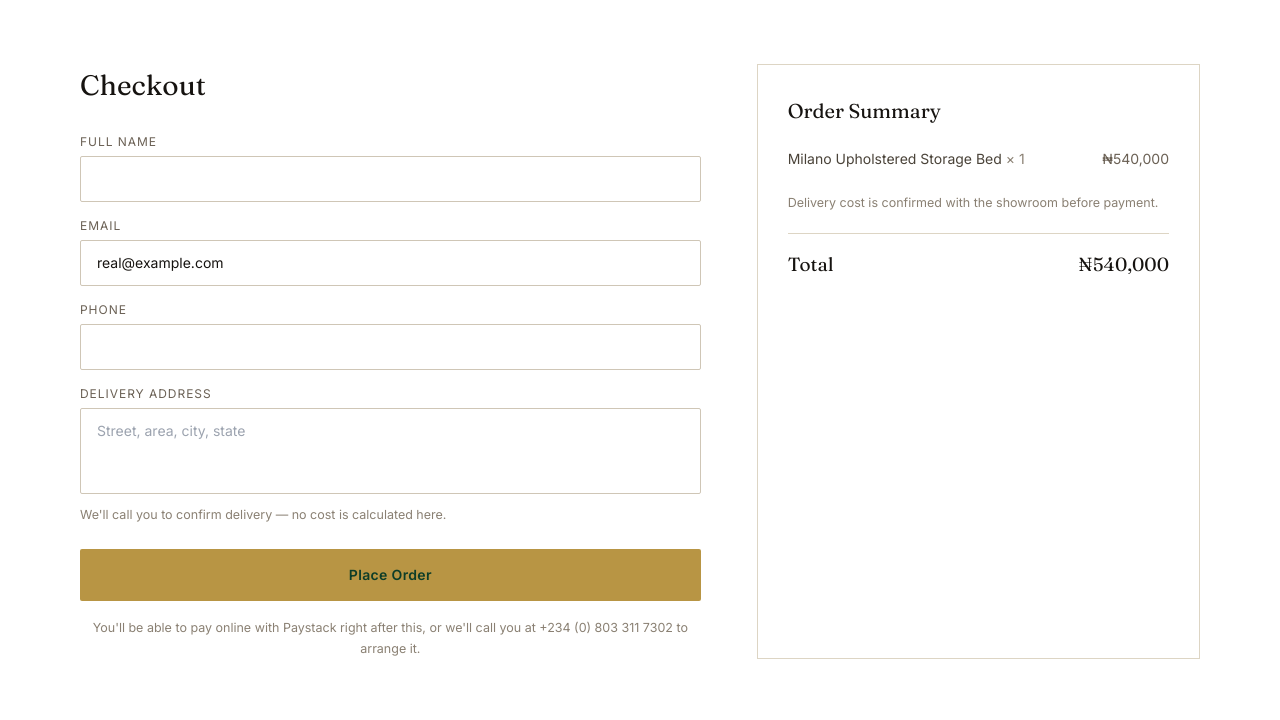
Test case: CheckoutView — authenticated › falls back to a generic, showroom-referencing message for an unrecognized RPC error
Type "  Ada Obi  " into the field labelled "Full name" at (390, 179), box [80, 156, 701, 202]
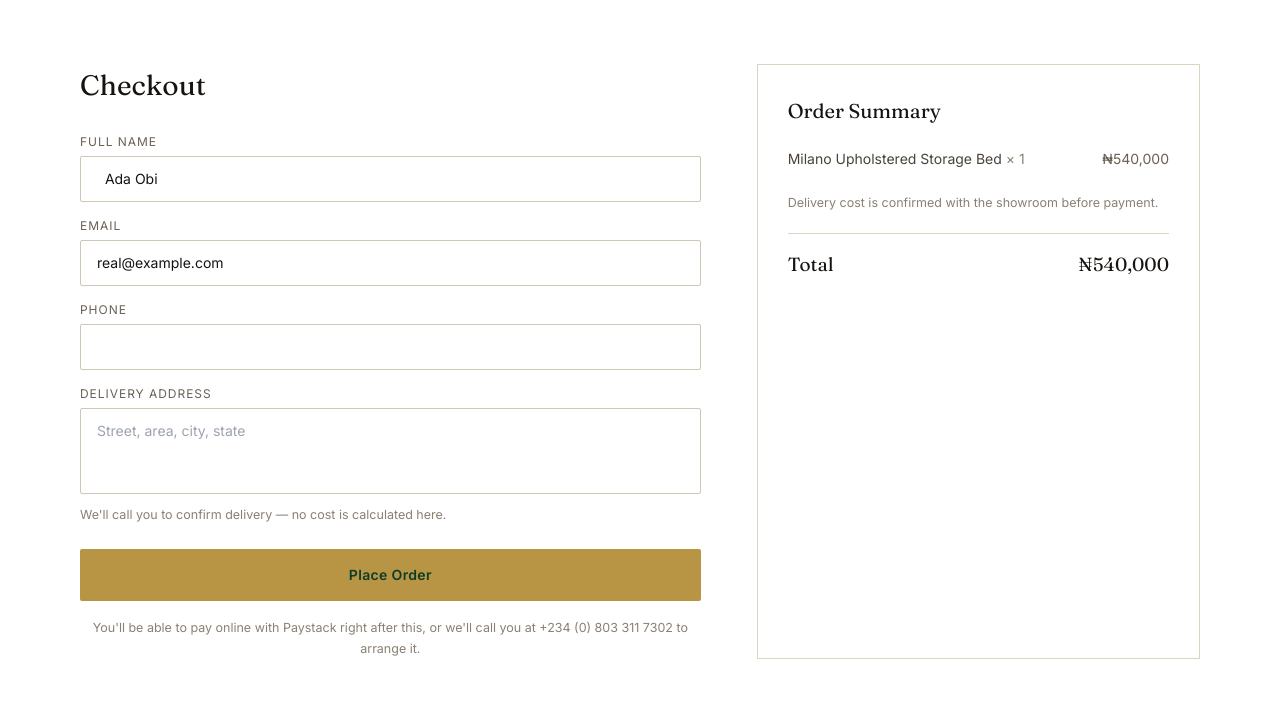
Replace the text in the field labelled "Email" with "ada@example.com" at (390, 263), box [80, 240, 701, 286]
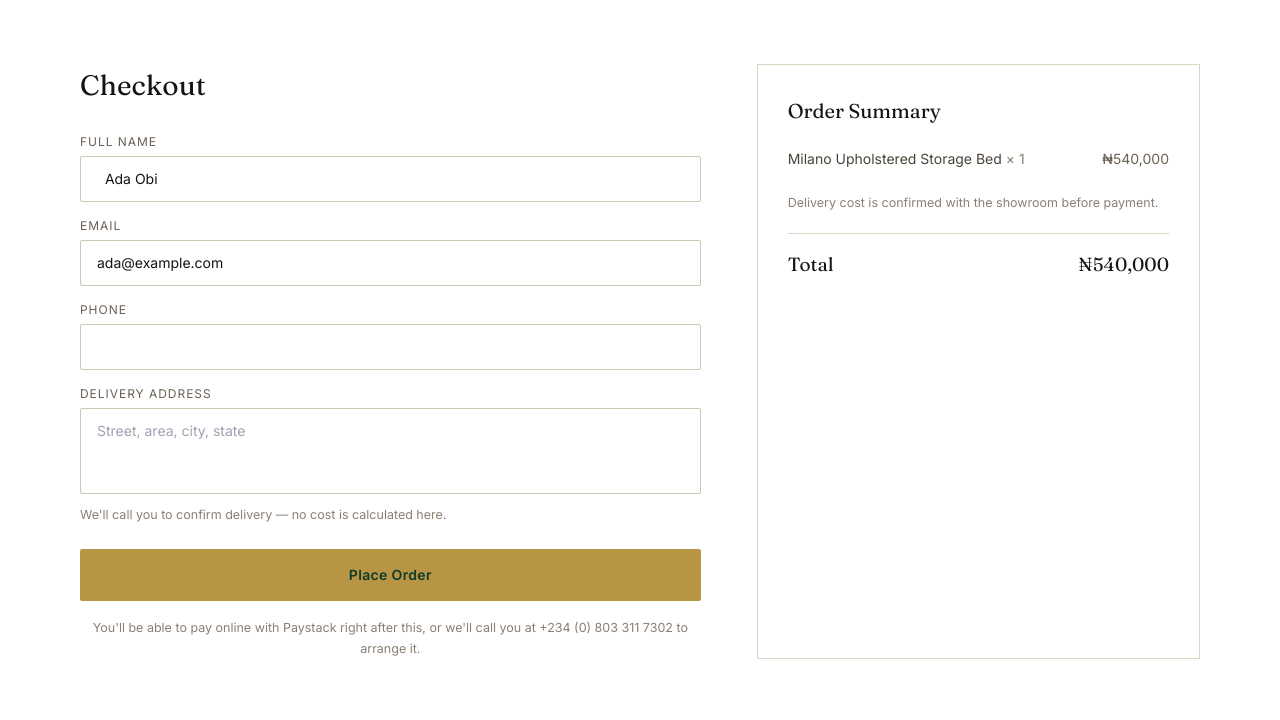
Type "08030000000" into the field labelled "Phone" at (390, 347), box [80, 324, 701, 370]
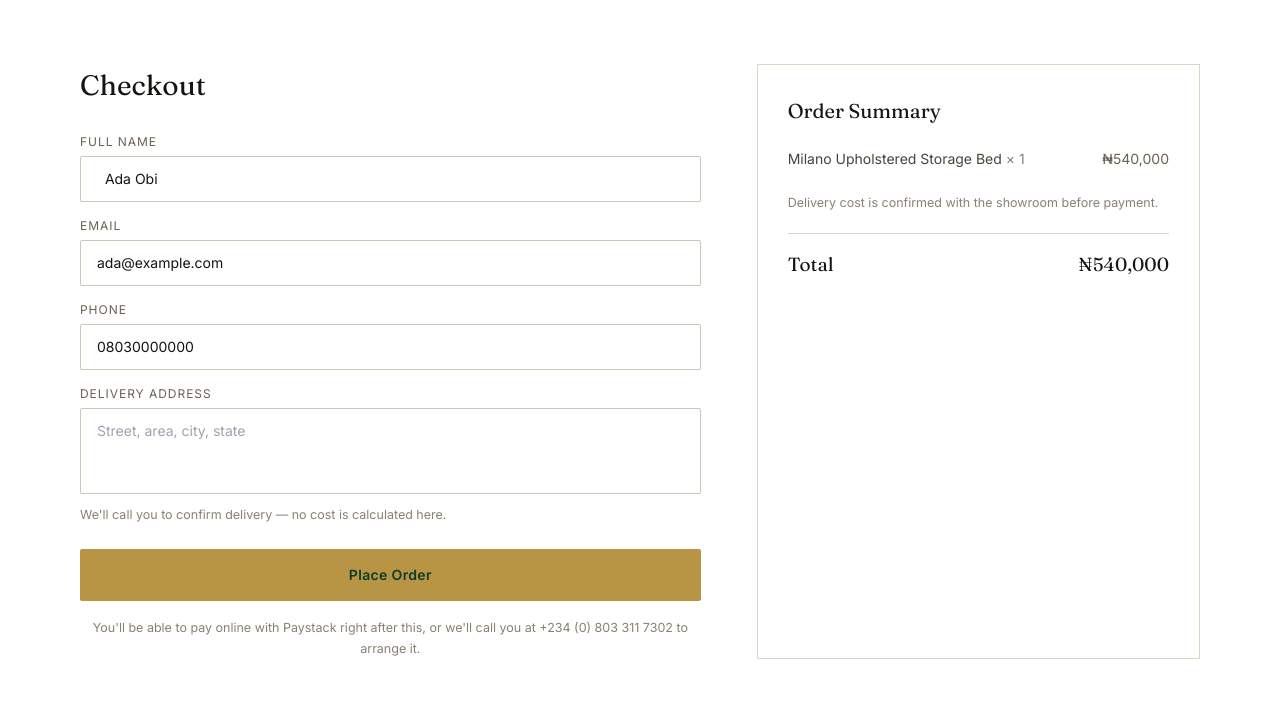
Type "12 Gudu Close, Abuja " into the text box labelled "Delivery address" at (390, 451), box [80, 408, 701, 494]
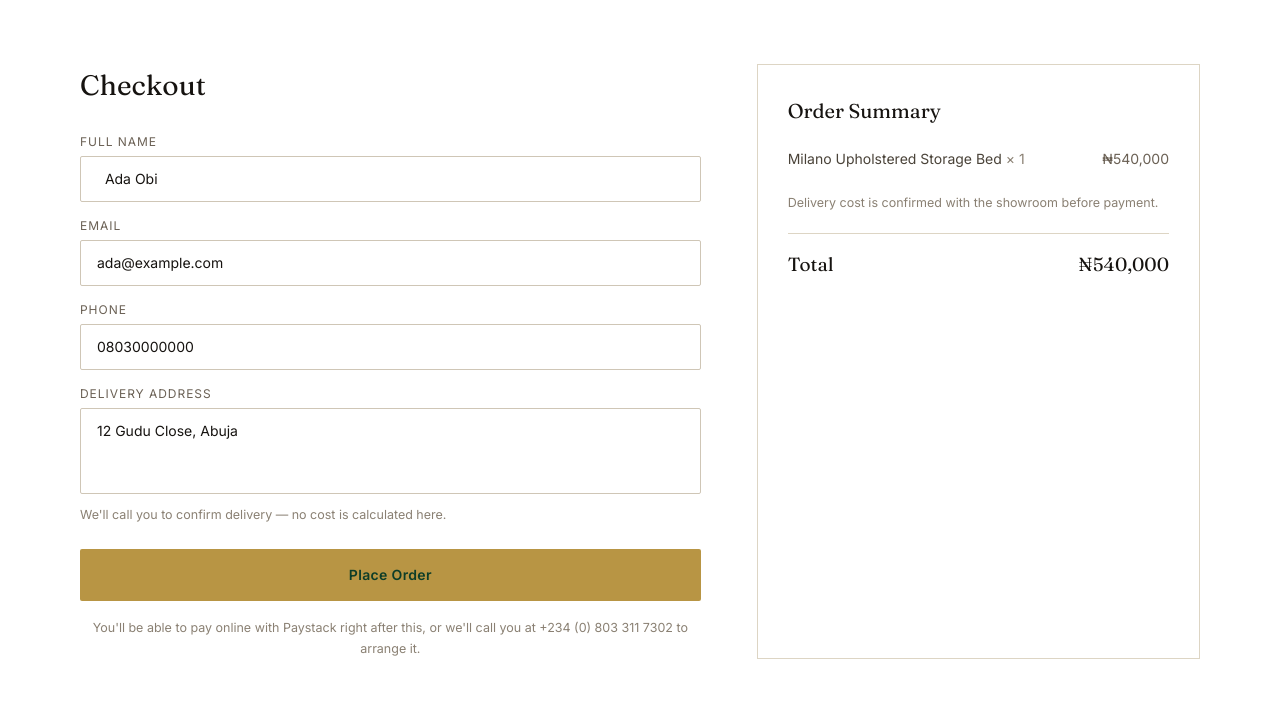
Click the button "Place Order" at (390, 575), box [80, 549, 701, 601]
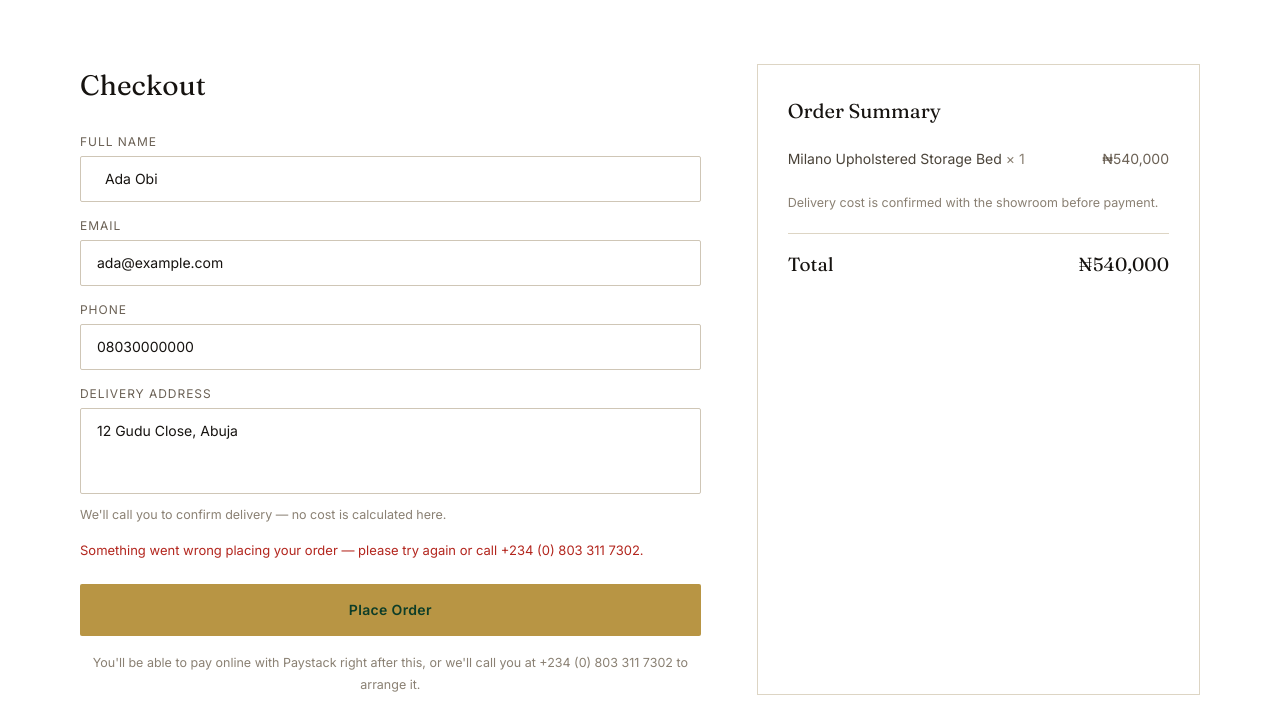
Expected: the text "Something went wrong placing your order" is shown, [80, 542, 644, 558]
